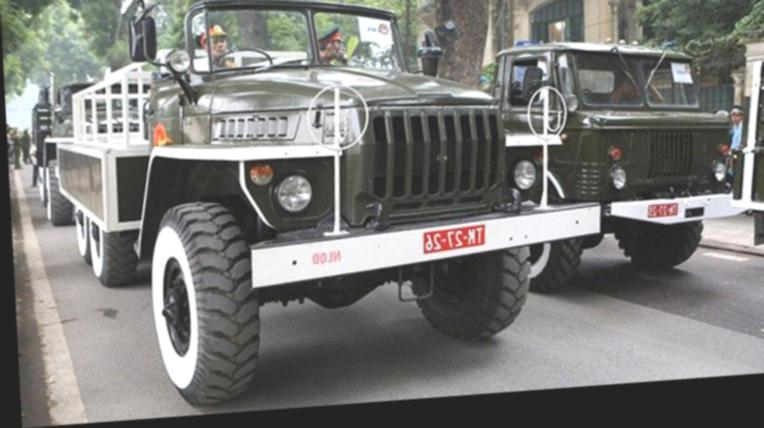License_Plate: (417, 224, 488, 256), (644, 202, 682, 220)
